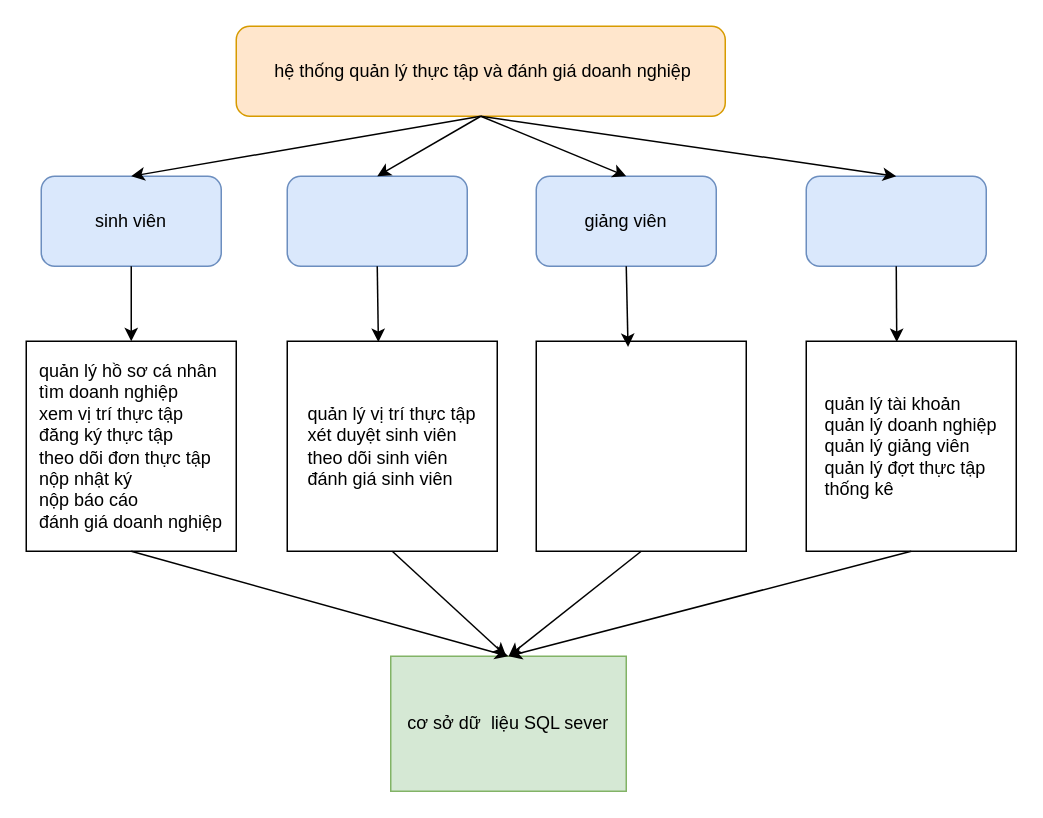
The diagram is 1043 pixels wide and 818 high, and some of its shapes have lost their labels. Here are the shapes that lost their labels. From the top down, the centre of each, then its label:
[376,220]: doanh nghiệp
[895,220]: quản trị viên
[640,445]: quản lý sinh viên hướng dẫn theo dõi tiến độ đánh giá báo cáo
